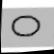no answer: (7, 11, 46, 40)
